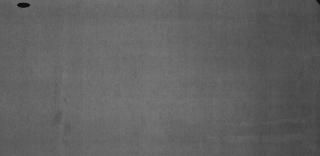oil spot: (52, 106, 72, 140)
punching hole: (16, 1, 30, 8)
